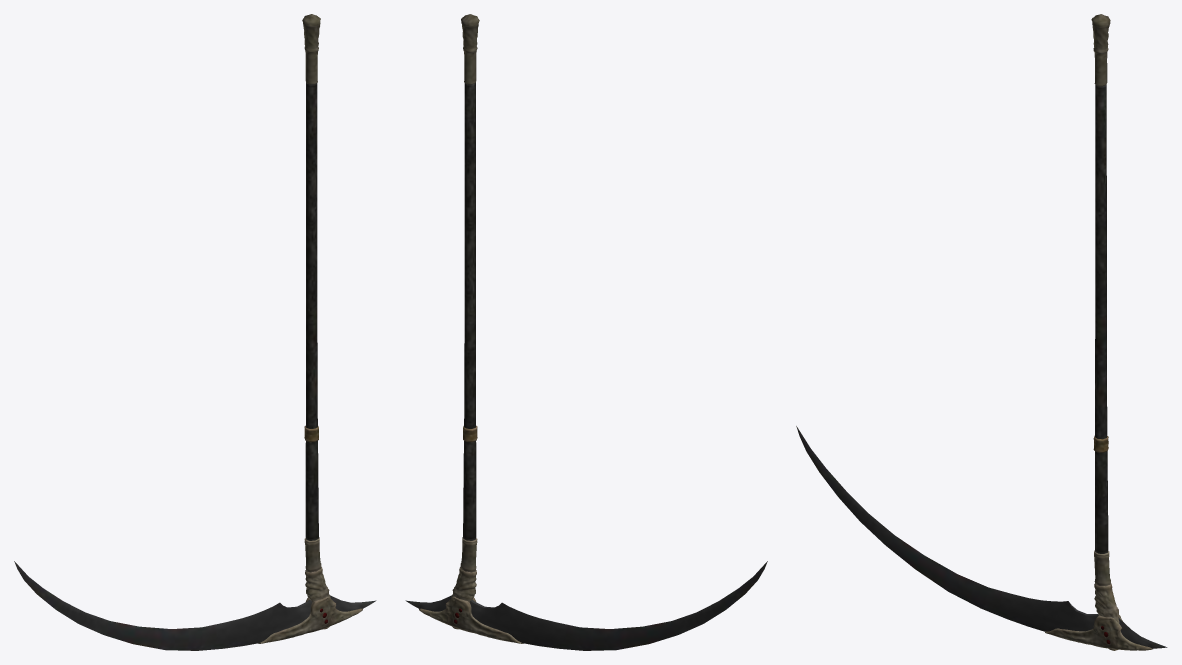
File: weapon-wp_a_1059.glb
3 renders of one model, left to right at view 1: azimuth 30°, elevation 25°; view 2: azimuth 150°, elevation 25°; view 3: azimuth 330°, elevation 25°, orthographic. The views are drawn at different scales.
Parts seen in each view (by area): view 1: wp_a_1059_mesh; view 2: wp_a_1059_mesh; view 3: wp_a_1059_mesh.
Part boxes in pixels (x1,y1,x2,y2): wp_a_1059_mesh: [14, 14, 376, 650]; wp_a_1059_mesh: [405, 14, 767, 650]; wp_a_1059_mesh: [796, 14, 1167, 650].
Size of the model in its own units: 1.28 by 2.08 by 0.0549.
Materials: 2 (2 with a texture image).
